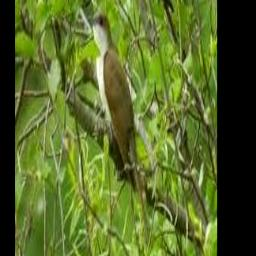Cuckoo: (91, 11, 149, 242)
